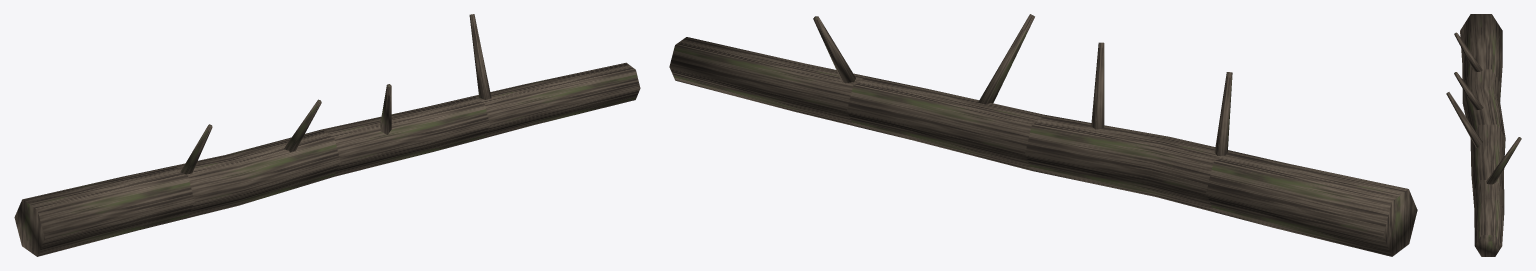
File: Log_Fallen_1_LOD1.gltf
3 views of the same model, side by side, from view 1: azimuth 30°, elevation 25°; view 2: azimuth 150°, elevation 25°; view 3: azimuth 270°, elevation 25° (orthographic). The views are drawn at different scales.
Visible parts, largest first — view 1: Log_Fallen_1_LOD1; view 2: Log_Fallen_1_LOD1; view 3: Log_Fallen_1_LOD1.
Part boxes in pixels (x1=…): Log_Fallen_1_LOD1: x1=14, y1=14, x2=640, y2=256; Log_Fallen_1_LOD1: x1=669, y1=14, x2=1417, y2=256; Log_Fallen_1_LOD1: x1=1446, y1=14, x2=1521, y2=256.
Size of the model in its own units: 8.01 by 1.31 by 1.21.
1 material, 1 textured.
